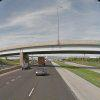Bridge: (1, 41, 99, 59)
